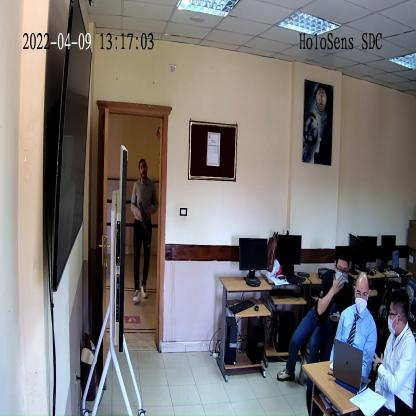handgun: (138, 201, 150, 239)
